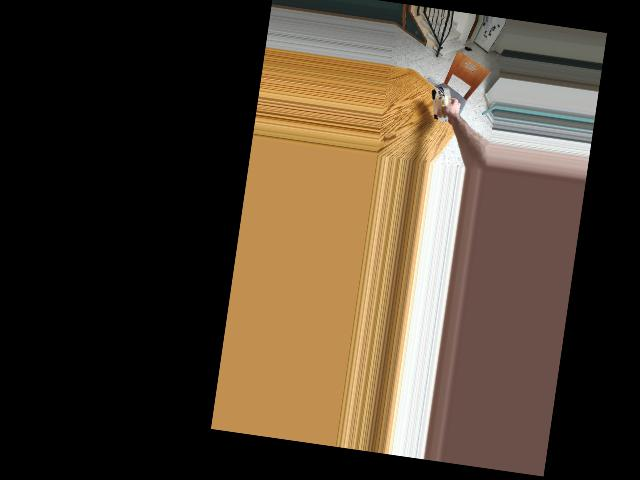cheese: (427, 87, 454, 122)
